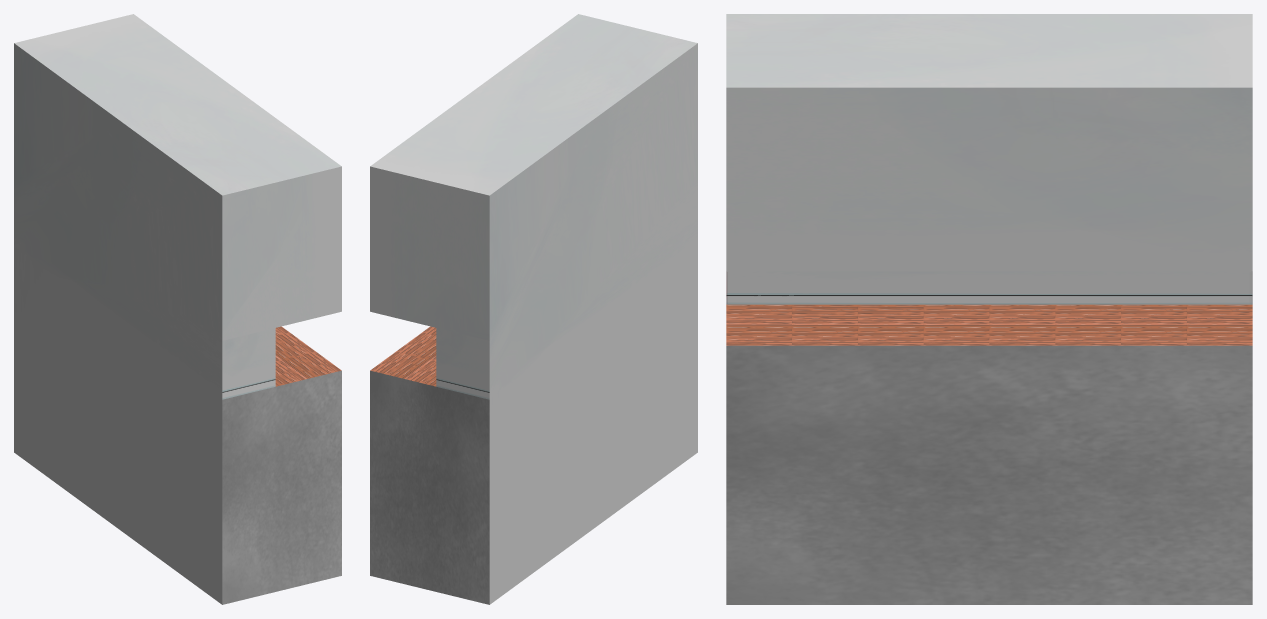
The model's file is office.fbx.
3 renders of one model, left to right at view 1: azimuth 30°, elevation 25°; view 2: azimuth 150°, elevation 25°; view 3: azimuth 270°, elevation 25°, orthographic. The views are drawn at different scales.
Visible parts, largest first — view 1: office; view 2: office; view 3: office.
Part boxes in pixels (x1,y1,x2,y2): office: (14, 14, 341, 604); office: (370, 14, 697, 604); office: (726, 14, 1252, 604).
Bounding box in the file's own units: 2830 × 9258 × 8538.
1 material, 1 textured.
